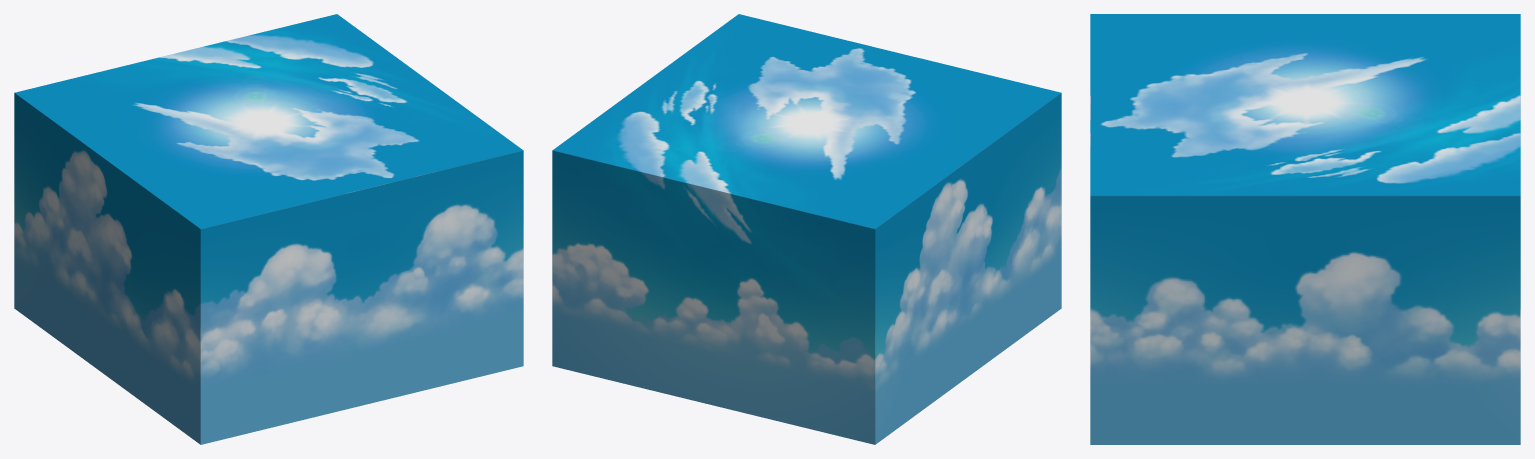
Rendered from sky.FBX.
The picture shows the model from 3 angles, left to right: view 1: azimuth 30°, elevation 25°; view 2: azimuth 150°, elevation 25°; view 3: azimuth 270°, elevation 25°; orthographic projection. The views are drawn at different scales.
Visible parts, largest first — view 1: sky; view 2: sky; view 3: sky.
Boxes of the visible parts, x1,y1,x2,y2 form: sky: (14, 14, 523, 444); sky: (552, 14, 1061, 444); sky: (1090, 14, 1520, 444).
Bounding box in the file's own units: 8523 × 5448 × 8523.
